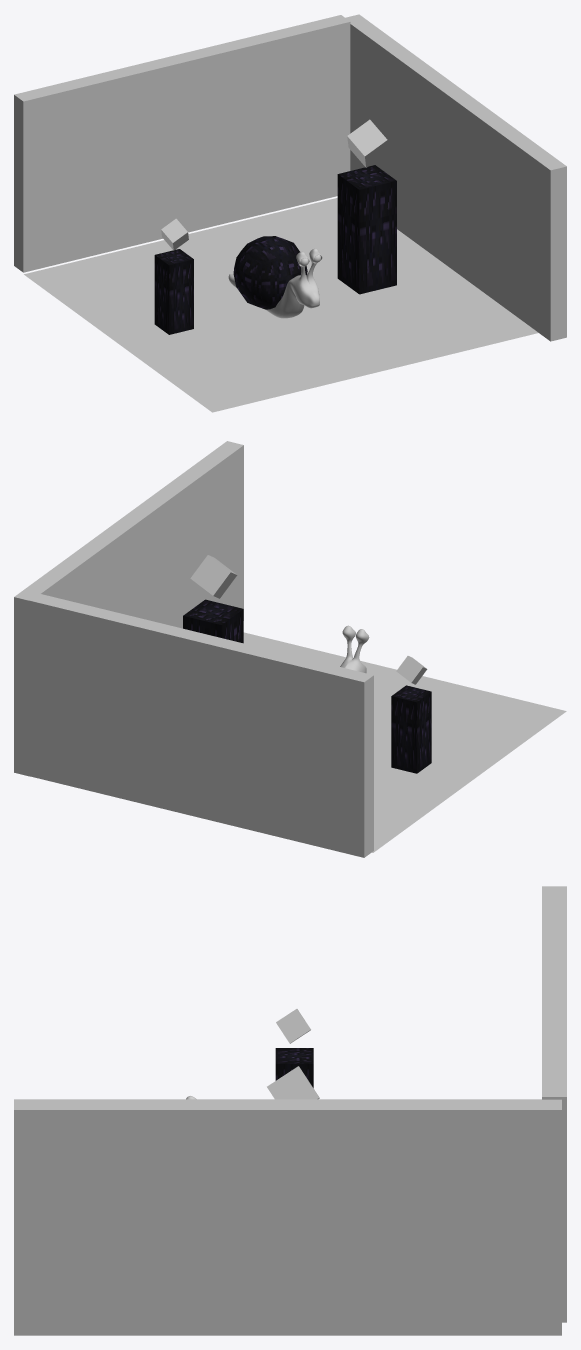
File: Snail.FBX
The picture shows the model from 3 angles, top to bottom: view 1: azimuth 30°, elevation 25°; view 2: azimuth 150°, elevation 25°; view 3: azimuth 270°, elevation 25°; orthographic projection. The views are drawn at different scales.
Parts seen in each view (by area): view 1: Box003, Plane001, Box004, Box005, Box002, Box006, Box001, Box007, Box008; view 2: Box003, Box004, Plane001, Box006, Box005, Box007, Box001; view 3: Box004, Box003, Box007, Box006, Box008.
Part boxes in pixels (box(x1,y1,x2,y2)): Box003: box(14, 15, 350, 272); Plane001: box(24, 198, 538, 412); Box004: box(345, 14, 566, 341); Box005: box(337, 165, 396, 294); Box002: box(233, 236, 307, 309); Box006: box(154, 249, 193, 334); Box001: box(228, 248, 322, 318); Box007: box(347, 119, 388, 167); Box008: box(161, 218, 188, 250); Box003: box(28, 593, 373, 857); Box004: box(14, 441, 243, 776); Plane001: box(243, 632, 566, 852); Box006: box(391, 685, 431, 773); Box005: box(183, 599, 243, 643); Box007: box(190, 555, 237, 598); Box001: box(340, 625, 369, 673); Box004: box(14, 1099, 561, 1335); Box003: box(542, 886, 566, 1322); Box007: box(267, 1066, 319, 1099); Box006: box(275, 1048, 313, 1087); Box008: box(276, 1009, 310, 1043).
Size of the model in its own units: 210 by 102 by 222.
